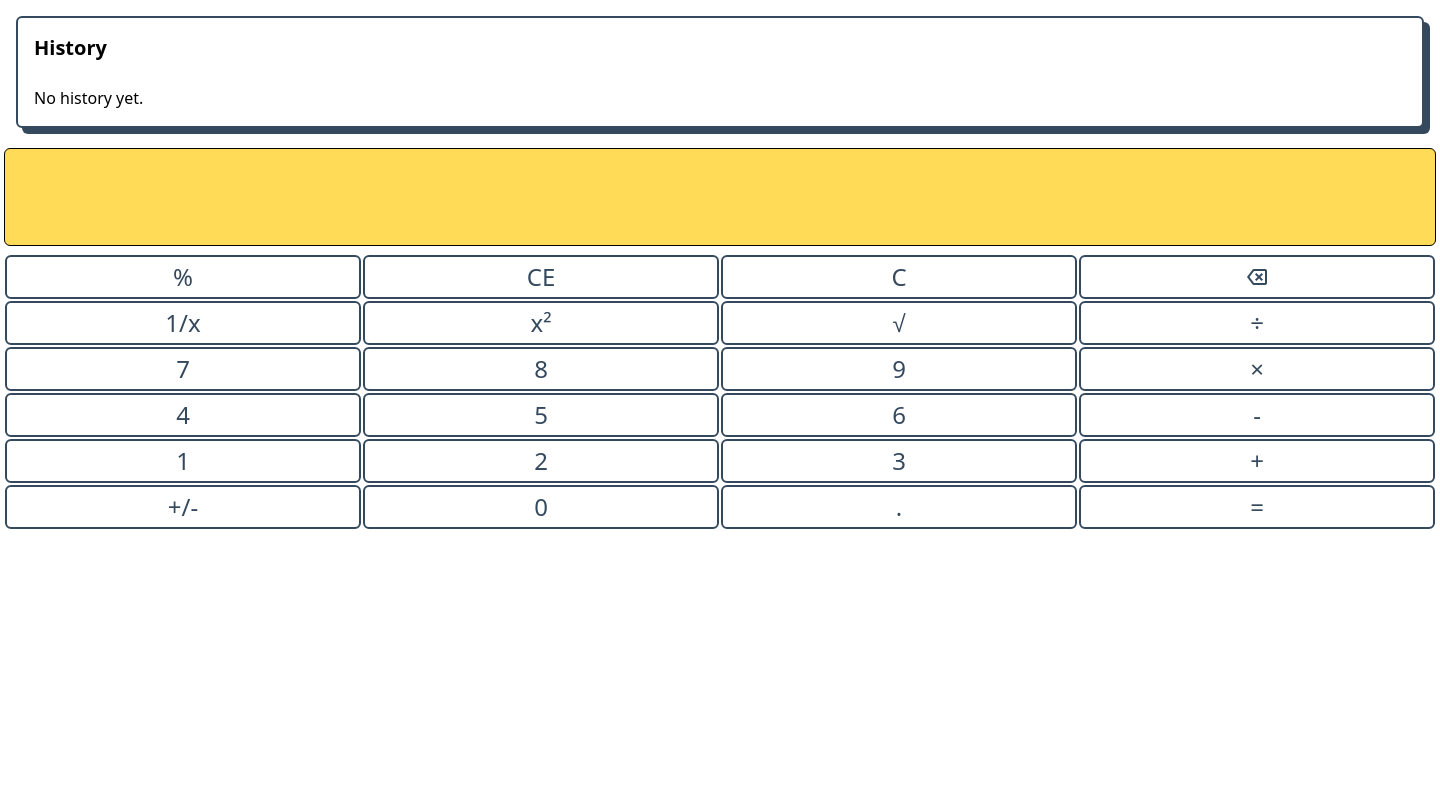
Component: CalculatorContainer › can evaluate continuously with `=` button
This screenshot has width=1440, height=810.
Click the button with class "digital-button" showing "4" at (183, 415), box [5,393,361,437]
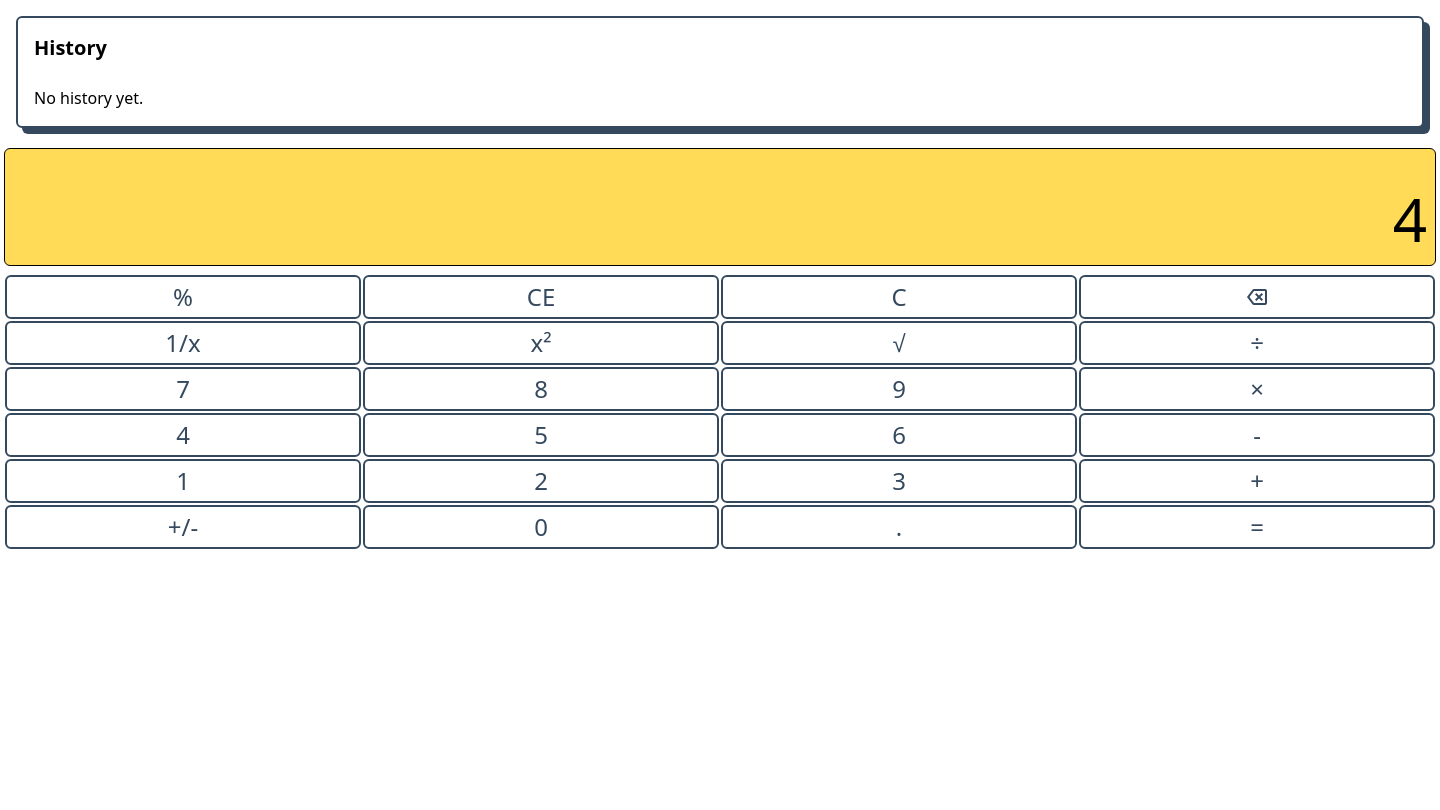
Expected: the text with class "entry-screen" reads "4", [1393,178,1427,260]
// Find the Addition button and click it
Click the button with class "operational-button" showing "+" at (1257, 481), box [1079,459,1435,503]
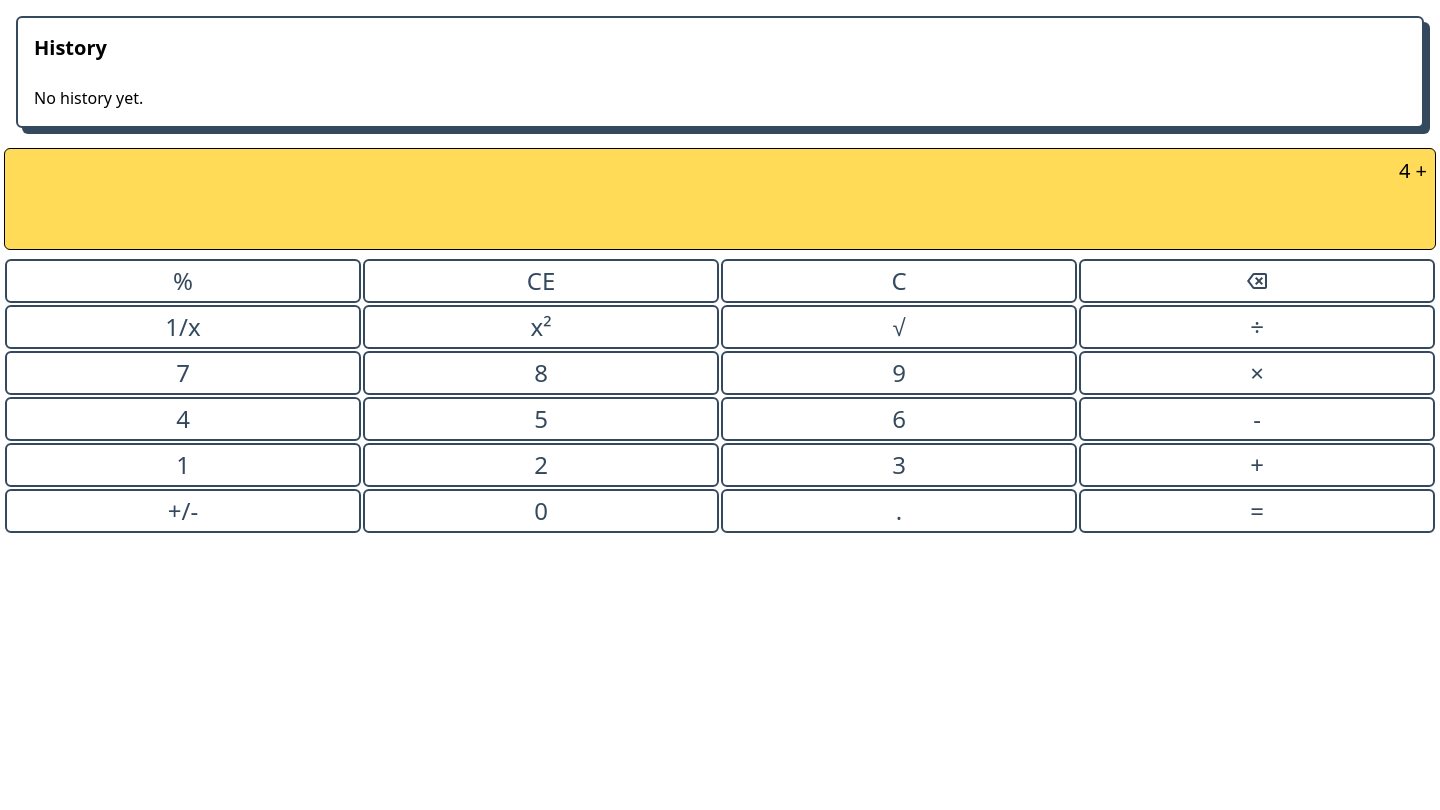
Expected: the text with class "expression-screen" reads "4 +", [1399,157,1427,184]
Click the button with class "digital-button" showing "4" at (183, 419), box [5,397,361,441]
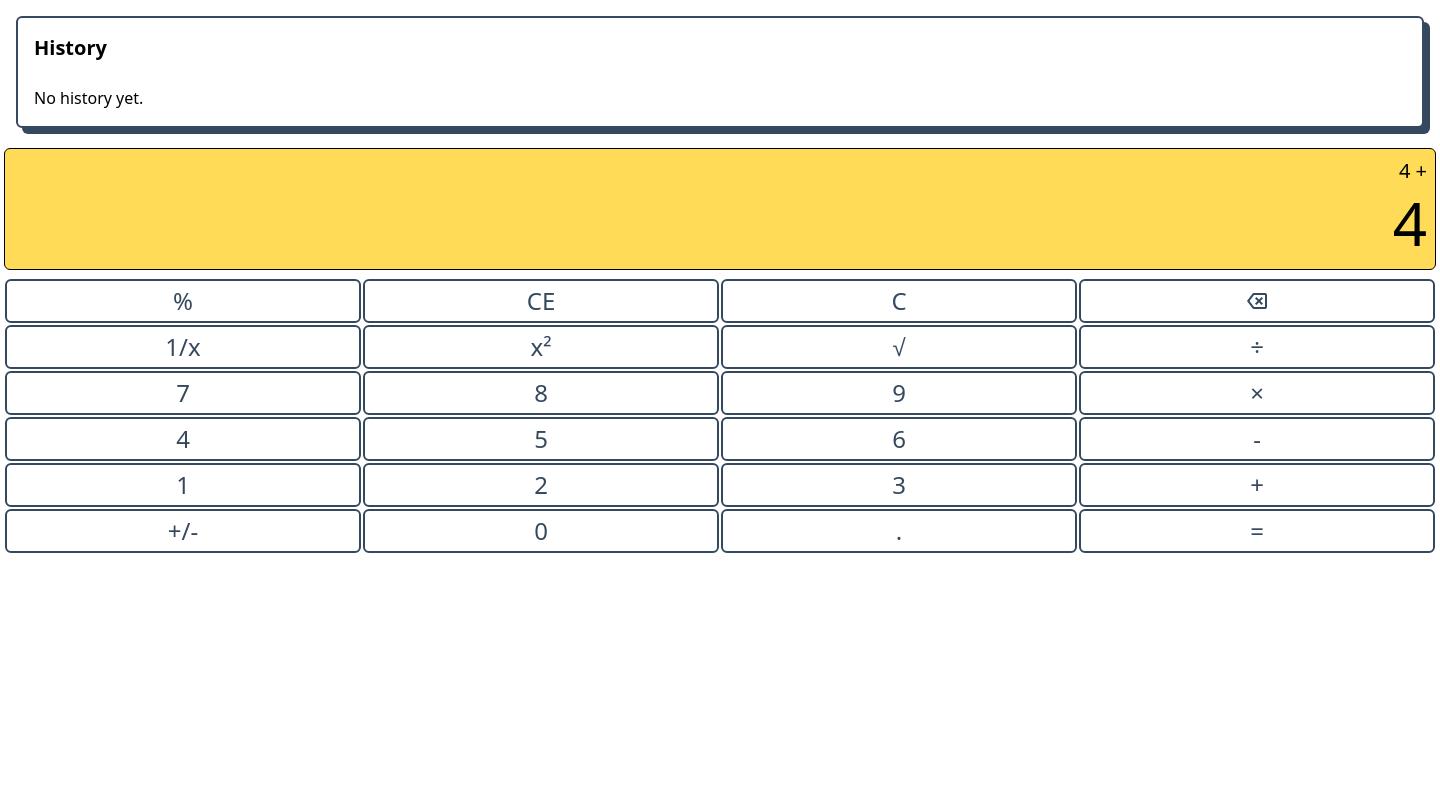
// Find the Equal button and click it
Click the button with class "evaluation-button" showing "=" at (1257, 531), box [1079,509,1435,553]
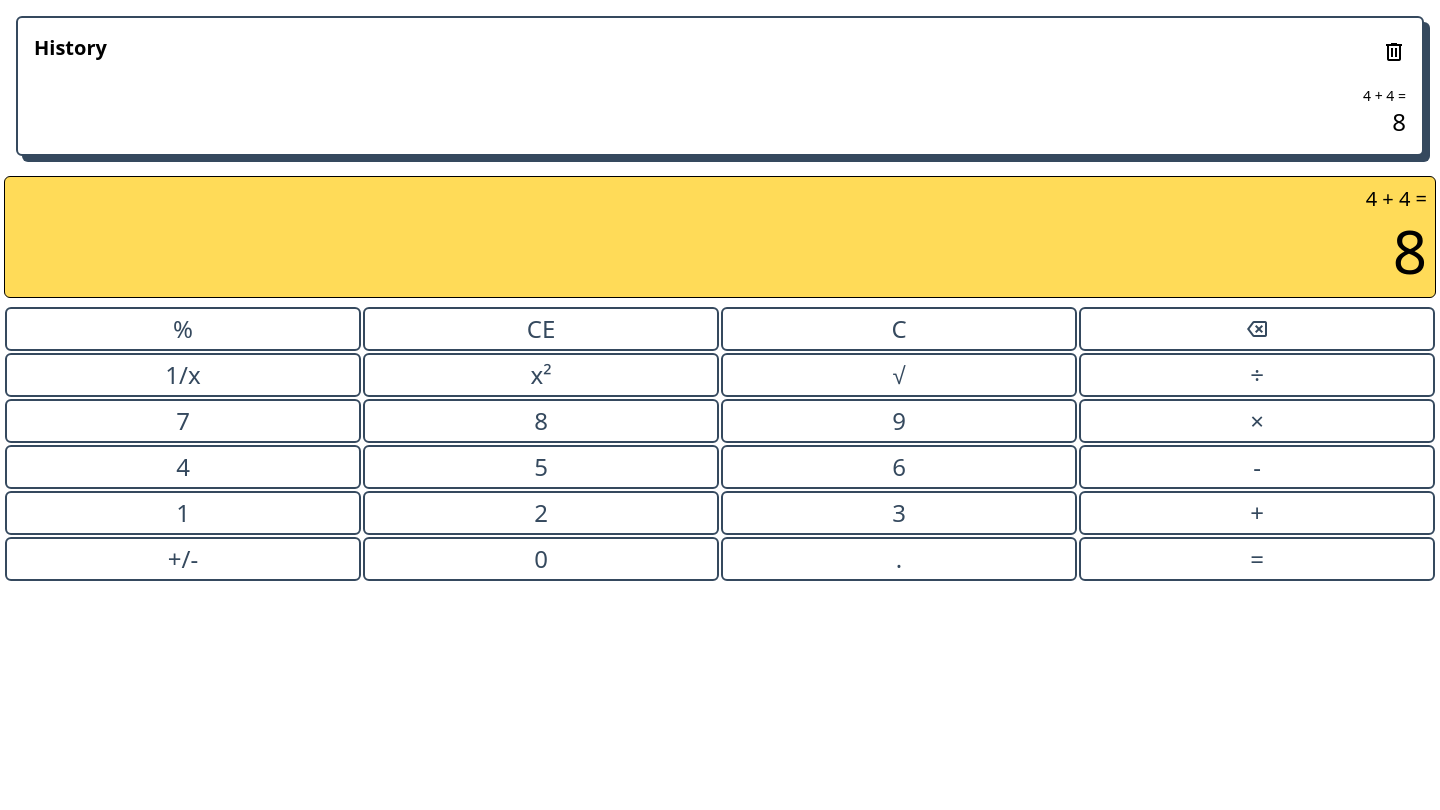
Expected: the text with class "expression-screen" reads "4 + 4 =", [1366,185,1427,212]
Expected: the text with class "entry-screen" reads "8", [1393,210,1427,292]
// Evaluate continuously with Equal button
Click the button with class "evaluation-button" showing "=" at (1257, 559), box [1079,537,1435,581]
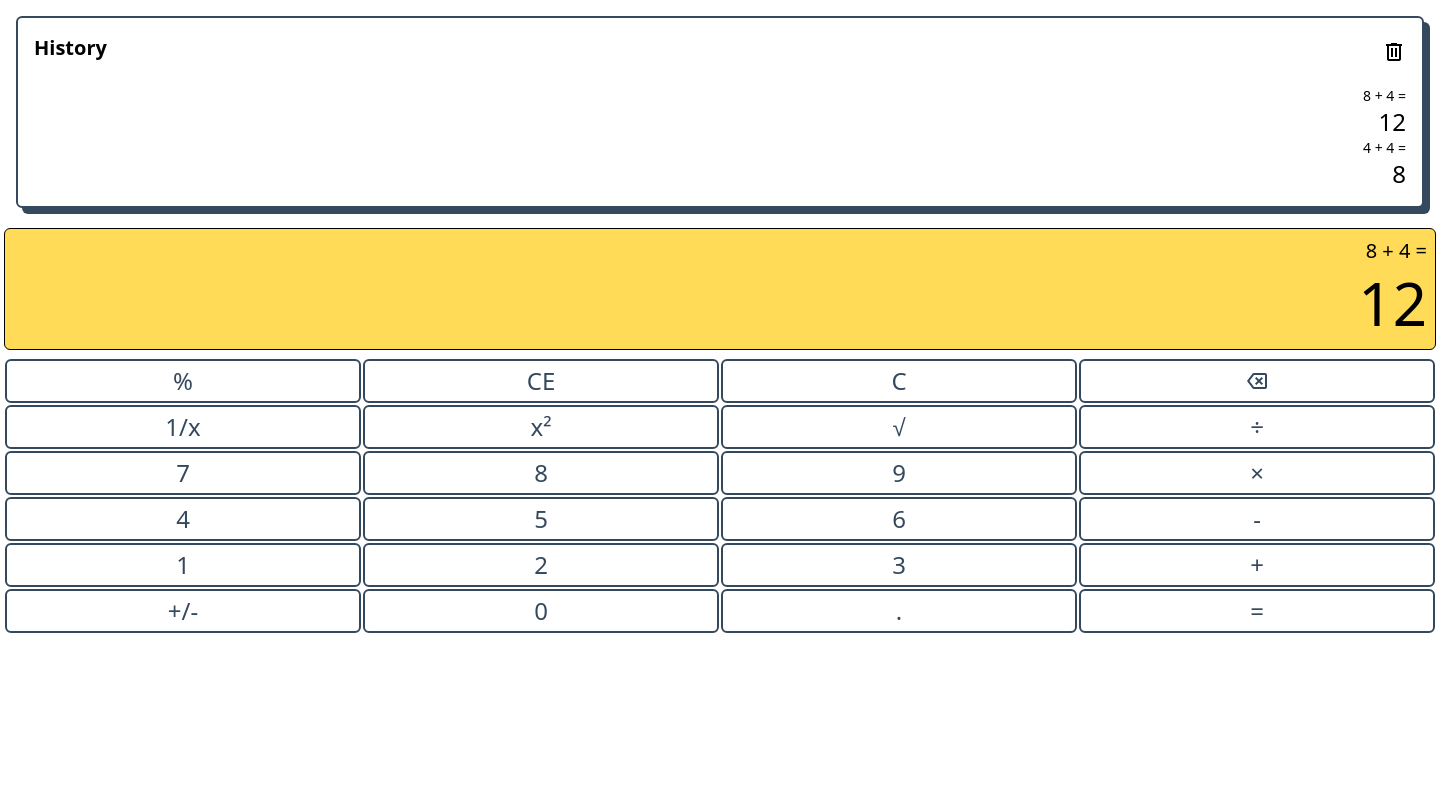
Expected: the text with class "expression-screen" reads "8 + 4 =", [1366,237,1427,264]
Expected: the text with class "entry-screen" reads "12", [1358,262,1427,344]
Click the button with class "evaluation-button" showing "=" at (1257, 611), box [1079,589,1435,633]
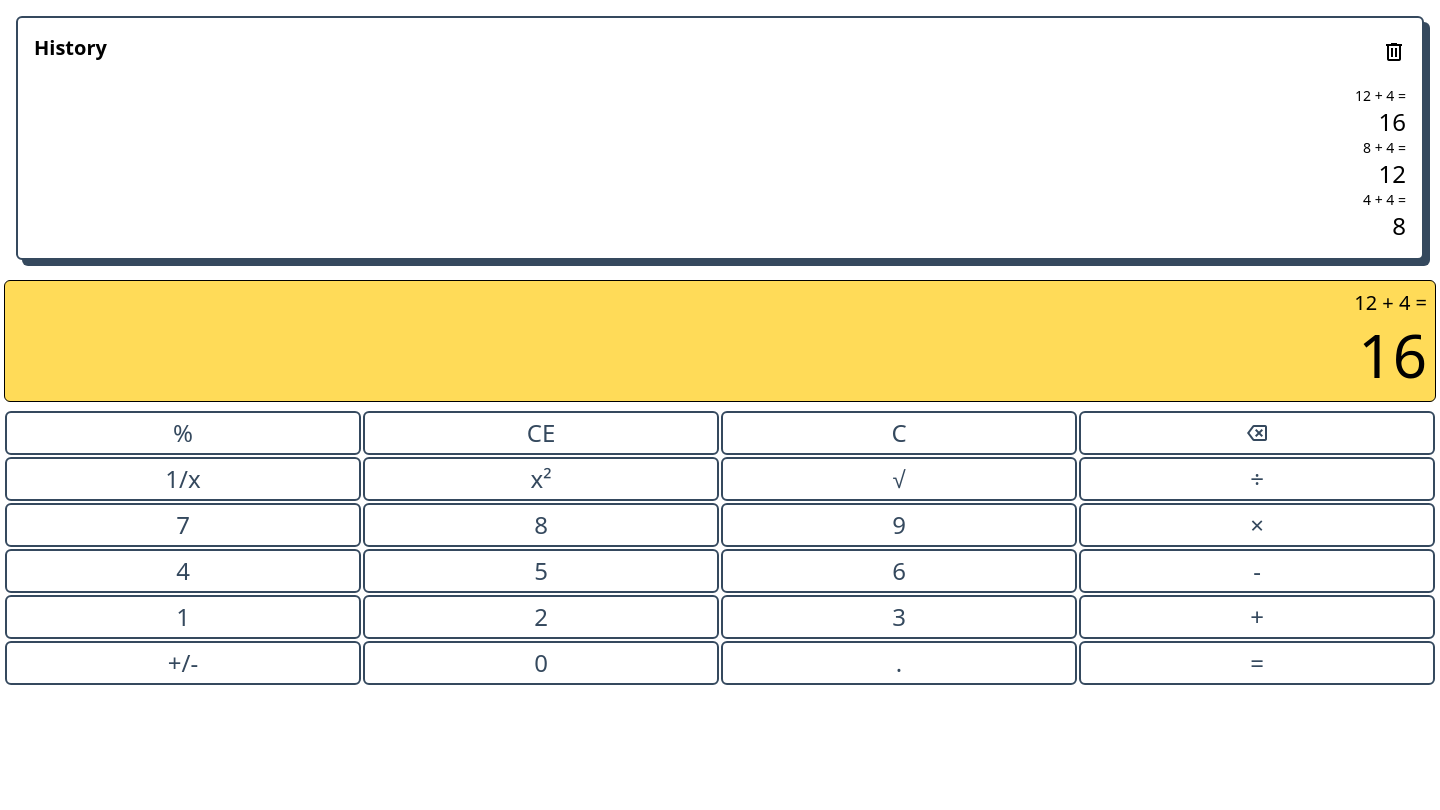
Expected: the text with class "expression-screen" reads "12 + 4 =", [1354,289,1427,316]
Expected: the text with class "entry-screen" reads "16", [1358,314,1427,396]
